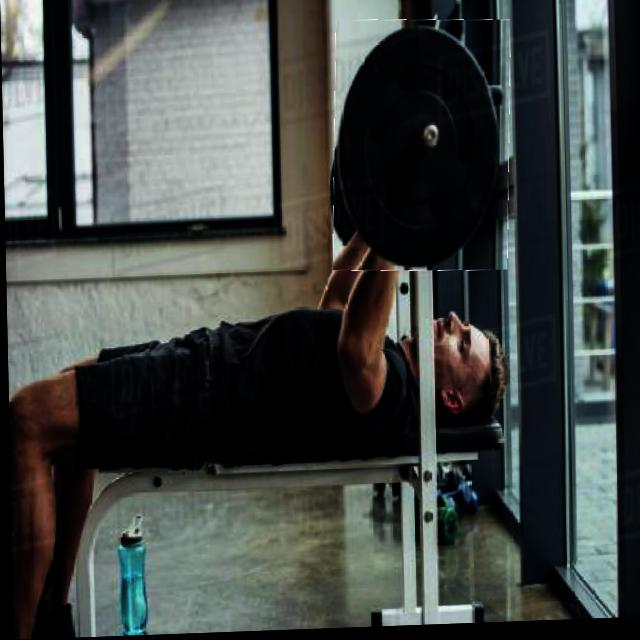barbell: (331, 21, 514, 278)
